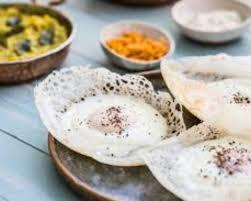Hoppers: (28, 71, 246, 194)
